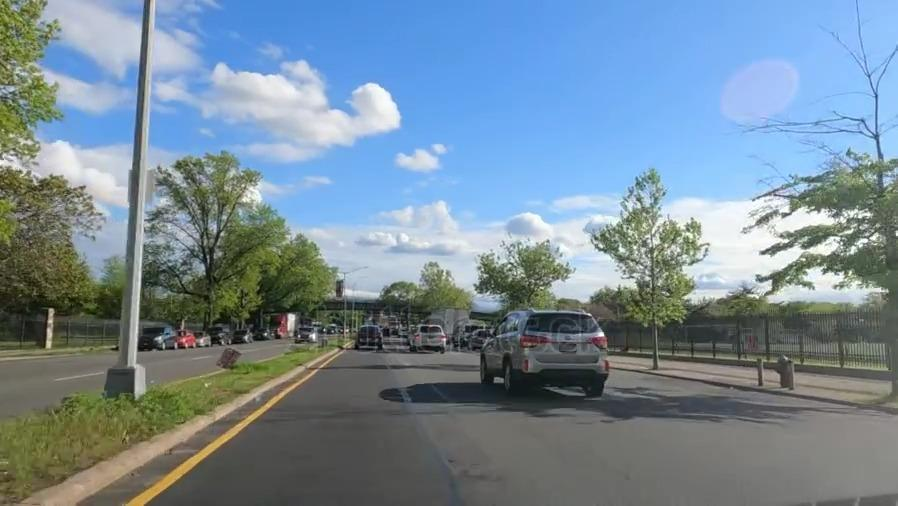car: (477, 306, 614, 394), (411, 321, 449, 354), (140, 321, 177, 351), (352, 323, 389, 349), (210, 323, 236, 347), (175, 328, 198, 350), (293, 325, 318, 344), (197, 330, 213, 344)
